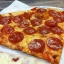pepperoni: (20, 20, 64, 36), (27, 36, 62, 55), (3, 22, 25, 45)
pizza: (1, 11, 63, 61)
